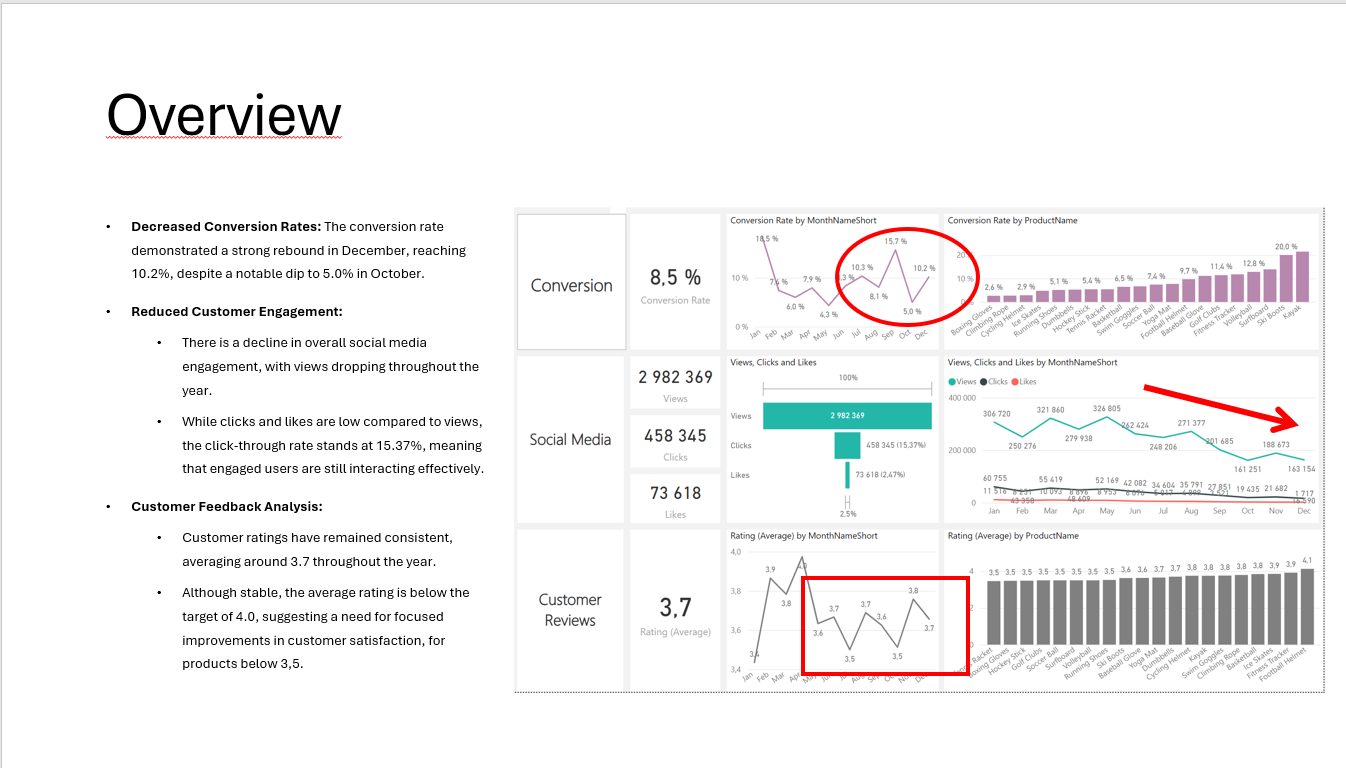

The page's visual inventory and layout, read from the dashboard file:
{"tool":"powerbi","page":{"name":"Overview","canvas":[1280,720],"ordinal":0},"visuals":[{"type":"textbox","box":[0,0,1280,52.6],"z":0},{"type":"slicer","fields":{"Values":["dim_products.ProductName"]},"box":[0,61.6,159.5,658.5],"z":1000},{"type":"card","fields":{"Values":["_Calculations.Conversion Rate"]},"box":[324.1,61.9,123.9,186.8],"z":2000},{"type":"card","fields":{"Values":["_Calculations.Rating (Average)"]},"box":[324.1,496.5,123.9,224],"z":3000},{"type":"lineChart","fields":{"Y":["_Calculations.Conversion Rate"],"Category":["Calendar.MonthNameShort"]},"box":[457.1,61.9,292.3,186.7],"z":4000},{"type":"columnChart","fields":{"Category":["dim_products.ProductName"],"Y":["_Calculations.Conversion Rate"]},"box":[756.7,61.9,516.3,186.7],"z":5000},{"type":"slicer","fields":{"Values":["Calendar.Year"]},"box":[189.4,4.6,249.5,43.7],"z":6000},{"type":"slicer","fields":{"Values":["Calendar.MonthNameShort"]},"box":[448,4.6,832.3,43.7],"z":7000},{"type":"lineChart","fields":{"Y":["_Calculations.Views","_Calculations.Clicks","_Calculations.Likes"],"Category":["Calendar.MonthNameShort"]},"box":[756.6,258.1,516.1,229.2],"z":8000},{"type":"lineChart","fields":{"Category":["Calendar.MonthNameShort"],"Y":["_Calculations.Rating (Average)"]},"box":[457.1,496.3,292.3,224],"z":9000},{"type":"columnChart","fields":{"Category":["dim_products.ProductName"],"Y":["_Calculations.Rating (Average)"]},"box":[756.6,496.5,523.4,224],"z":10000},{"type":"funnel","fields":{"Y":["_Calculations.Views","_Calculations.Clicks","_Calculations.Likes"]},"box":[457.3,258.1,292.1,229.2],"z":11000},{"type":"card","fields":{"Values":["_Calculations.Views"]},"box":[324.2,257.7,123.8,71.9],"z":12000},{"type":"textbox","box":[168.5,61.9,150.3,186.7],"z":13000},{"type":"textbox","box":[168.5,257.7,146.6,229.5],"z":14000},{"type":"textbox","box":[168.5,496.3,145.7,224],"z":15000},{"type":"card","fields":{"Values":["_Calculations.Clicks"]},"box":[324.2,338.8,123.8,71.9],"z":16000},{"type":"card","fields":{"Values":["_Calculations.Likes"]},"box":[324.2,419.8,123.8,67.4],"z":17000}]}

Visuals, with their boxes in screenshot pixels (x1, y1, x2, y2), scaled from the page's 1280x720 canvas onto the 1346x768 screenshot:
textbox: 0, 0, 1345, 56
slicer - dim_products.ProductName: 0, 66, 168, 767
card - _Calculations.Conversion Rate: 341, 66, 471, 265
card - _Calculations.Rating (Average): 341, 530, 471, 767
lineChart - _Calculations.Conversion Rate x Calendar.MonthNameShort: 481, 66, 788, 265
columnChart - dim_products.ProductName x _Calculations.Conversion Rate: 796, 66, 1339, 265
slicer - Calendar.Year: 199, 5, 462, 52
slicer - Calendar.MonthNameShort: 471, 5, 1345, 52
lineChart - _Calculations.Views x _Calculations.Clicks: 796, 275, 1338, 520
lineChart - Calendar.MonthNameShort x _Calculations.Rating (Average): 481, 529, 788, 767
columnChart - dim_products.ProductName x _Calculations.Rating (Average): 796, 530, 1345, 767
funnel - _Calculations.Views x _Calculations.Clicks: 481, 275, 788, 520
card - _Calculations.Views: 341, 275, 471, 352
textbox: 177, 66, 335, 265
textbox: 177, 275, 331, 520
textbox: 177, 529, 330, 767
card - _Calculations.Clicks: 341, 361, 471, 438
card - _Calculations.Likes: 341, 448, 471, 520
